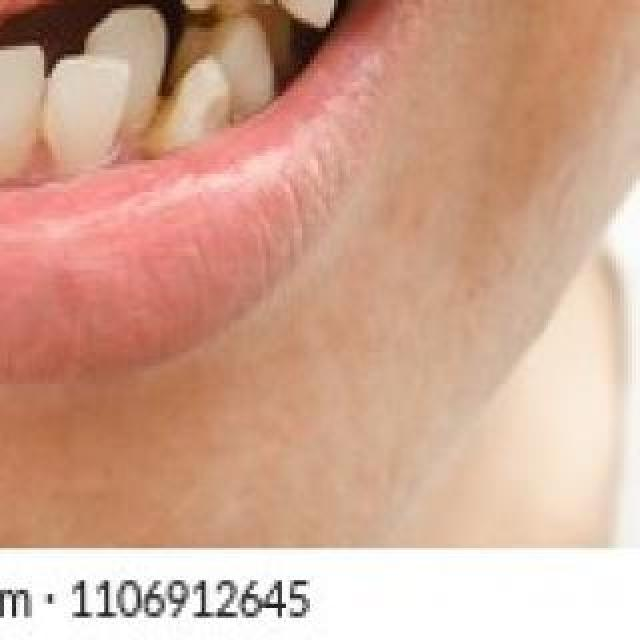maligned: (0, 60, 152, 198), (160, 0, 346, 98), (84, 0, 164, 170)
missing: (0, 0, 172, 46)
